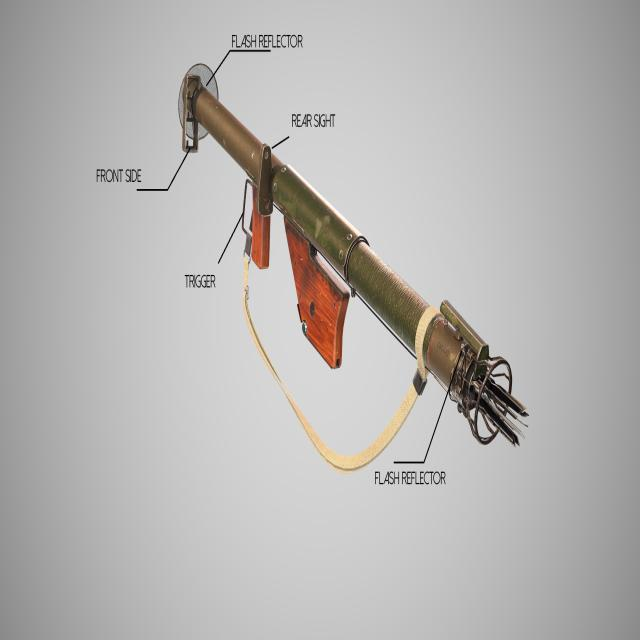bazooka: (126, 31, 563, 565)
